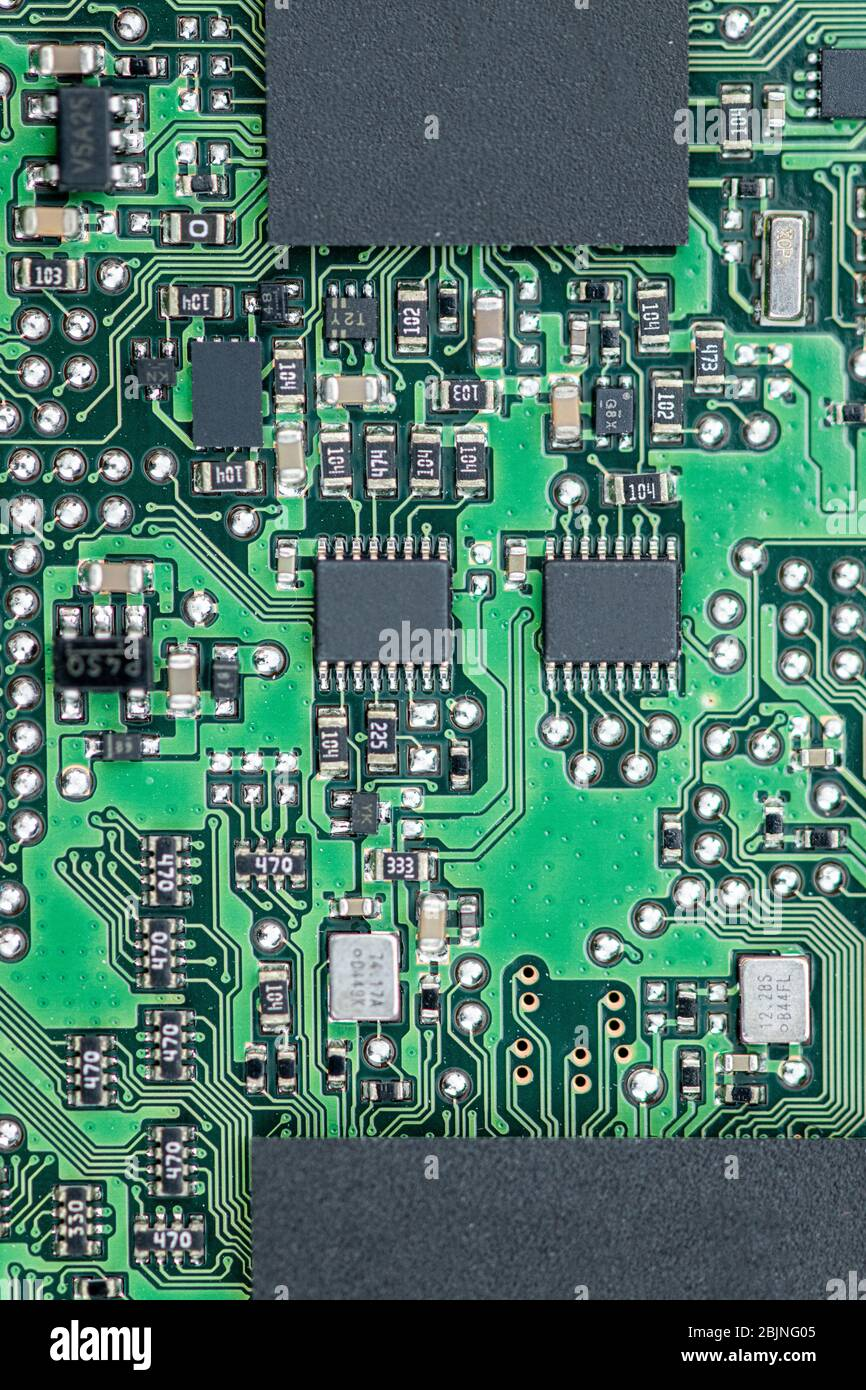Connector P: (633, 281, 673, 351), (648, 368, 685, 443), (314, 708, 351, 780), (452, 427, 490, 497), (690, 321, 728, 390), (271, 339, 306, 407), (257, 962, 292, 1029), (318, 425, 353, 491), (363, 425, 397, 492), (365, 703, 399, 770), (613, 468, 671, 507), (408, 426, 442, 492), (437, 377, 497, 414), (18, 253, 78, 290), (80, 559, 143, 594), (371, 846, 430, 883), (395, 285, 428, 351), (416, 891, 450, 955), (720, 88, 752, 153), (167, 283, 225, 318), (22, 203, 76, 238), (201, 461, 257, 491), (658, 811, 685, 864), (43, 46, 90, 74), (678, 1048, 703, 1100), (447, 740, 472, 790), (597, 314, 622, 364), (760, 798, 786, 846), (366, 1077, 412, 1104), (22, 1279, 81, 1300), (418, 973, 442, 1023), (721, 1080, 762, 1108), (274, 1044, 297, 1093), (325, 1042, 348, 1090), (77, 1274, 119, 1300), (244, 1044, 267, 1090), (576, 278, 617, 303), (437, 284, 458, 332), (182, 170, 222, 195), (801, 825, 839, 851), (676, 987, 698, 1027), (731, 175, 767, 199), (122, 56, 156, 76), (834, 403, 866, 424)
Transformer T: (209, 645, 241, 717), (623, 1061, 668, 1109), (550, 380, 582, 445), (86, 559, 145, 594), (20, 205, 79, 238), (275, 426, 306, 488), (167, 651, 199, 709), (38, 42, 96, 74), (417, 896, 447, 957), (473, 295, 504, 353), (325, 374, 379, 405), (642, 710, 680, 751), (254, 639, 290, 677), (52, 446, 86, 482), (276, 542, 297, 584), (458, 897, 479, 938), (338, 894, 375, 917), (286, 844, 307, 884), (798, 745, 834, 768), (766, 89, 786, 129), (724, 1052, 757, 1072), (631, 533, 640, 557), (614, 536, 625, 555), (439, 669, 449, 689), (579, 537, 589, 555), (404, 537, 413, 554)
Transistor Q: (248, 0, 690, 274), (539, 551, 680, 684), (311, 555, 453, 682), (52, 597, 156, 725), (40, 85, 136, 196), (189, 335, 265, 452), (320, 276, 380, 363), (232, 832, 309, 890), (134, 1210, 206, 1268), (813, 42, 864, 121), (328, 784, 394, 839), (590, 372, 636, 449), (55, 1186, 98, 1259), (151, 1008, 192, 1084), (138, 918, 181, 990), (130, 340, 179, 402), (146, 833, 186, 908), (152, 1126, 193, 1199), (72, 1035, 112, 1108), (408, 432, 441, 490)
